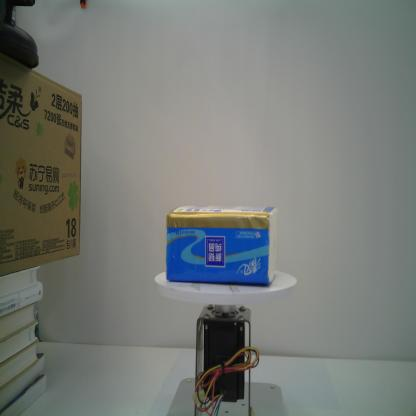Tissue: (166, 204, 278, 286)
